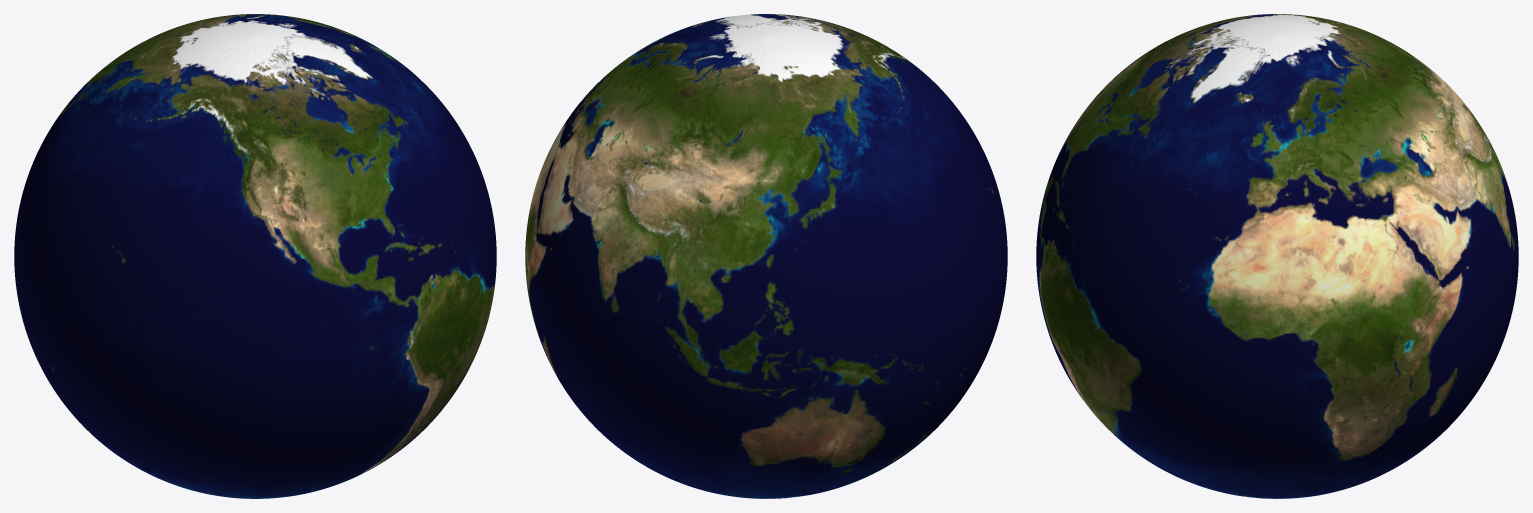
Rendered from Earth.gltf.
3 renders of one model, left to right at view 1: azimuth 30°, elevation 25°; view 2: azimuth 150°, elevation 25°; view 3: azimuth 270°, elevation 25°, orthographic.
Parts seen in each view (by area): view 1: Sphere.002; view 2: Sphere.002; view 3: Sphere.002.
Boxes of the visible parts, left/top/right/bottom form: Sphere.002: left=14, top=14, right=496, bottom=498; Sphere.002: left=525, top=14, right=1007, bottom=498; Sphere.002: left=1036, top=14, right=1518, bottom=498.
Bounding box in the file's own units: 21.85 × 22.08 × 21.85.
1 material, 1 textured.
